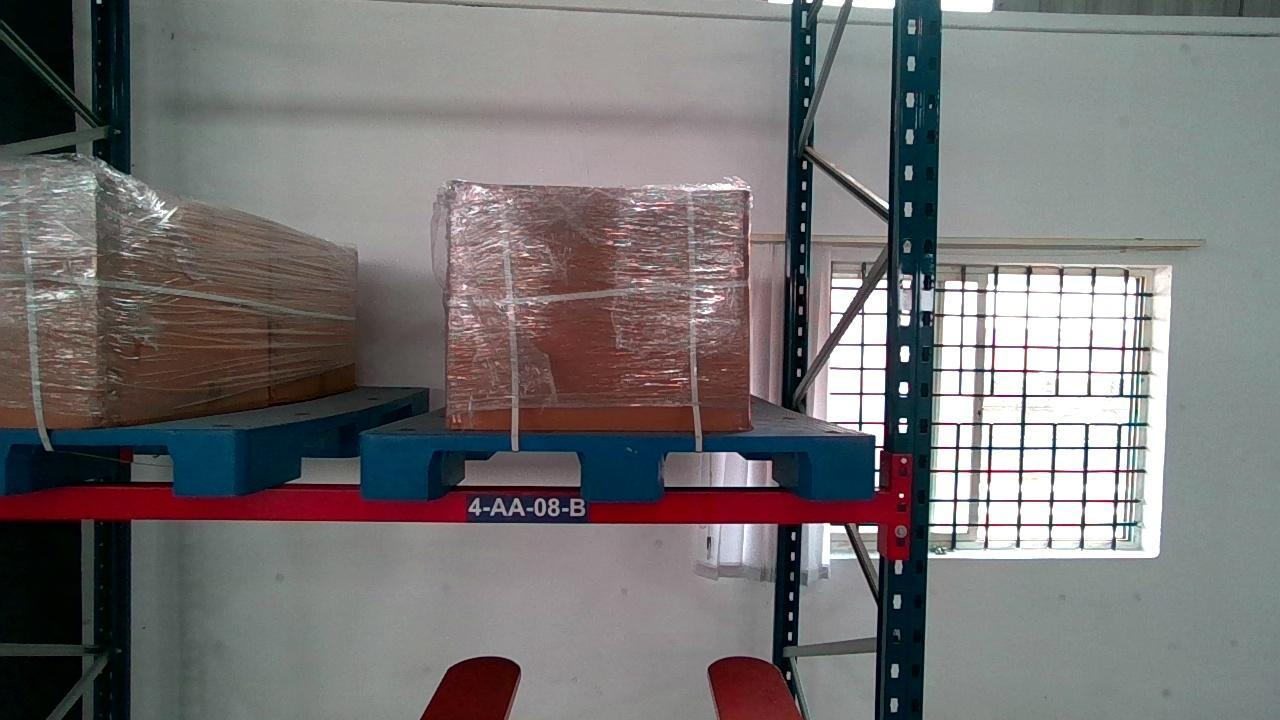h_rack: (2, 491, 893, 519)
small_pallet: (359, 433, 872, 498)
